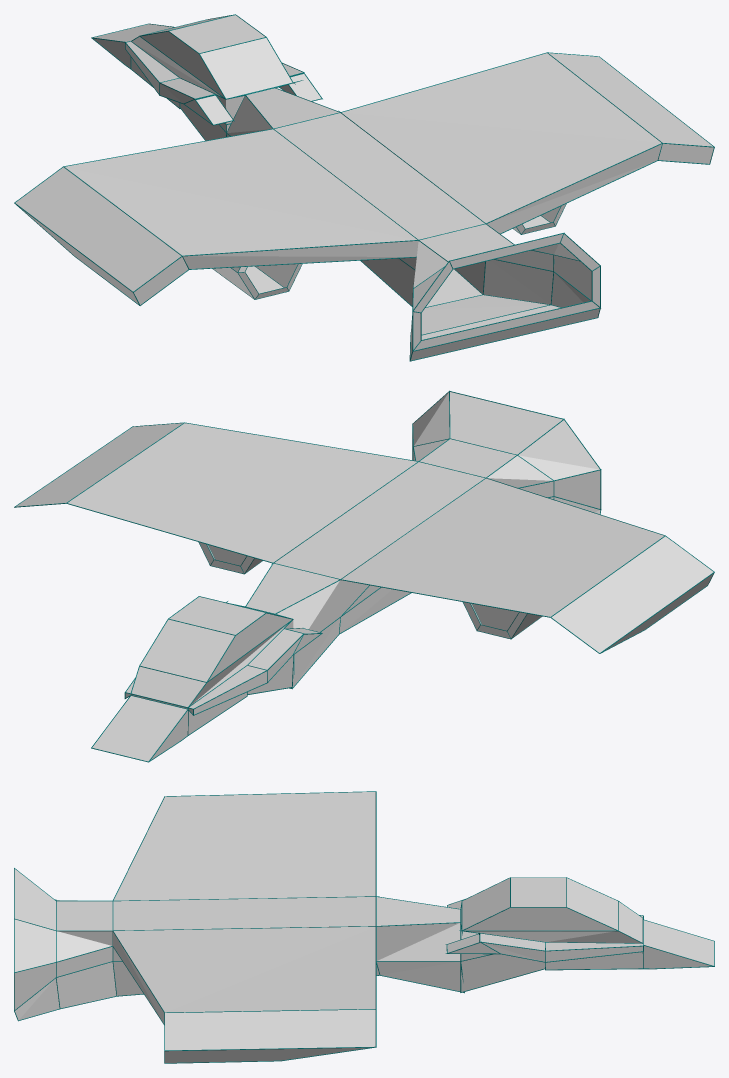
The model's file is TRON Ship.fbx.
3 views of the same model, one above another, from view 1: azimuth 30°, elevation 25°; view 2: azimuth 150°, elevation 25°; view 3: azimuth 270°, elevation 25° (orthographic). The views are drawn at different scales.
Visible parts, largest first — view 1: Box001, Box002, led, NGon004, NGon001; view 2: Box001, Box002, led, NGon004, NGon003, NGon001; view 3: Box001, Box002, led.
Part boxes in pixels (box(x1,y1,x2,y2)): Box001: box(15, 15, 713, 360); Box002: box(16, 16, 599, 359); led: box(14, 14, 714, 361); NGon004: box(213, 264, 300, 298); NGon001: box(233, 264, 301, 296); Box001: box(16, 394, 713, 761); Box002: box(85, 392, 713, 760); led: box(14, 390, 714, 762); NGon004: box(463, 602, 541, 637); NGon003: box(199, 542, 262, 573); NGon001: box(486, 607, 526, 638); Box001: box(14, 792, 714, 1062); Box002: box(14, 792, 711, 1062); led: box(14, 791, 714, 1063).
Bounding box in the file's own units: 4352 × 705 × 4981.
